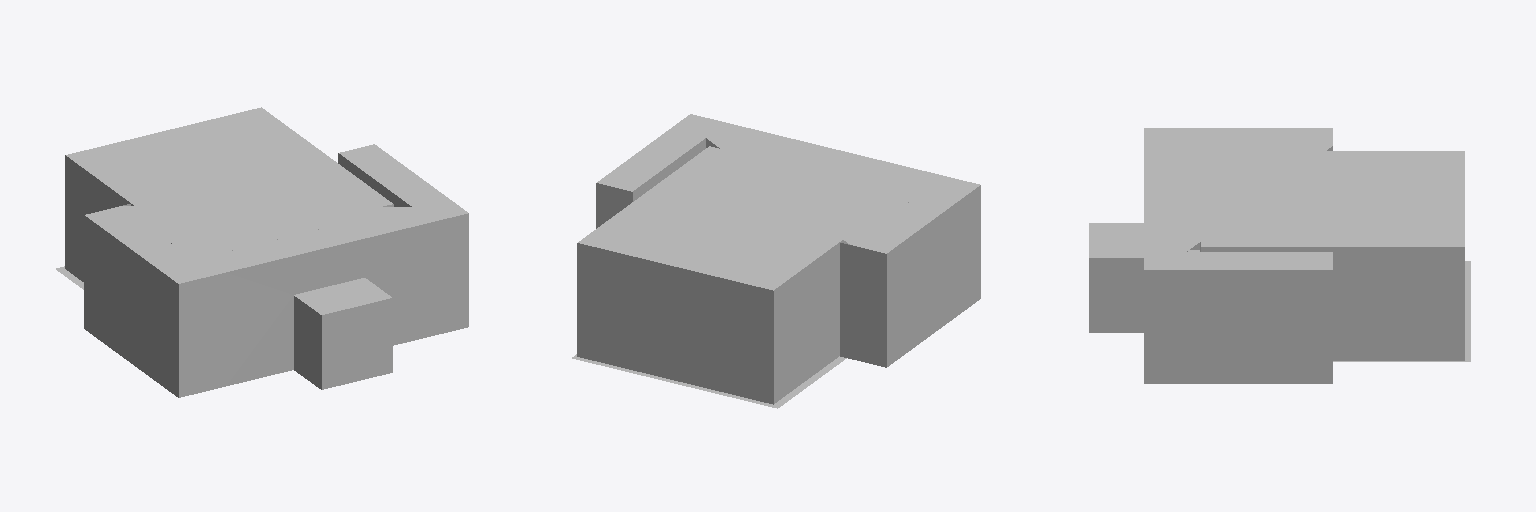
The model's file is interior.obj.
The picture shows the model from 3 angles: view 1: azimuth 30°, elevation 25°; view 2: azimuth 150°, elevation 25°; view 3: azimuth 270°, elevation 25°; orthographic projection.
Parts seen in each view (by area): view 1: Walls2, Ceiling, Walls1; view 2: Ceiling, Walls1, Walls2, Ground1; view 3: Ceiling, Walls2, Walls1, Ground1.
Part boxes in pixels (left/top/right/bottom): Walls2: left=84, top=153, right=468, bottom=397; Ceiling: left=66, top=107, right=467, bottom=314; Walls1: left=65, top=155, right=393, bottom=309; Ceiling: left=578, top=114, right=979, bottom=290; Walls1: left=577, top=240, right=849, bottom=404; Walls2: left=596, top=138, right=980, bottom=367; Ground1: left=572, top=354, right=846, bottom=408; Ceiling: left=1089, top=128, right=1464, bottom=269; Walls2: left=1089, top=146, right=1332, bottom=383; Walls1: left=1188, top=242, right=1464, bottom=360; Ground1: left=1333, top=261, right=1470, bottom=361.
Size of the model in its own units: 16 by 6 by 18.25.